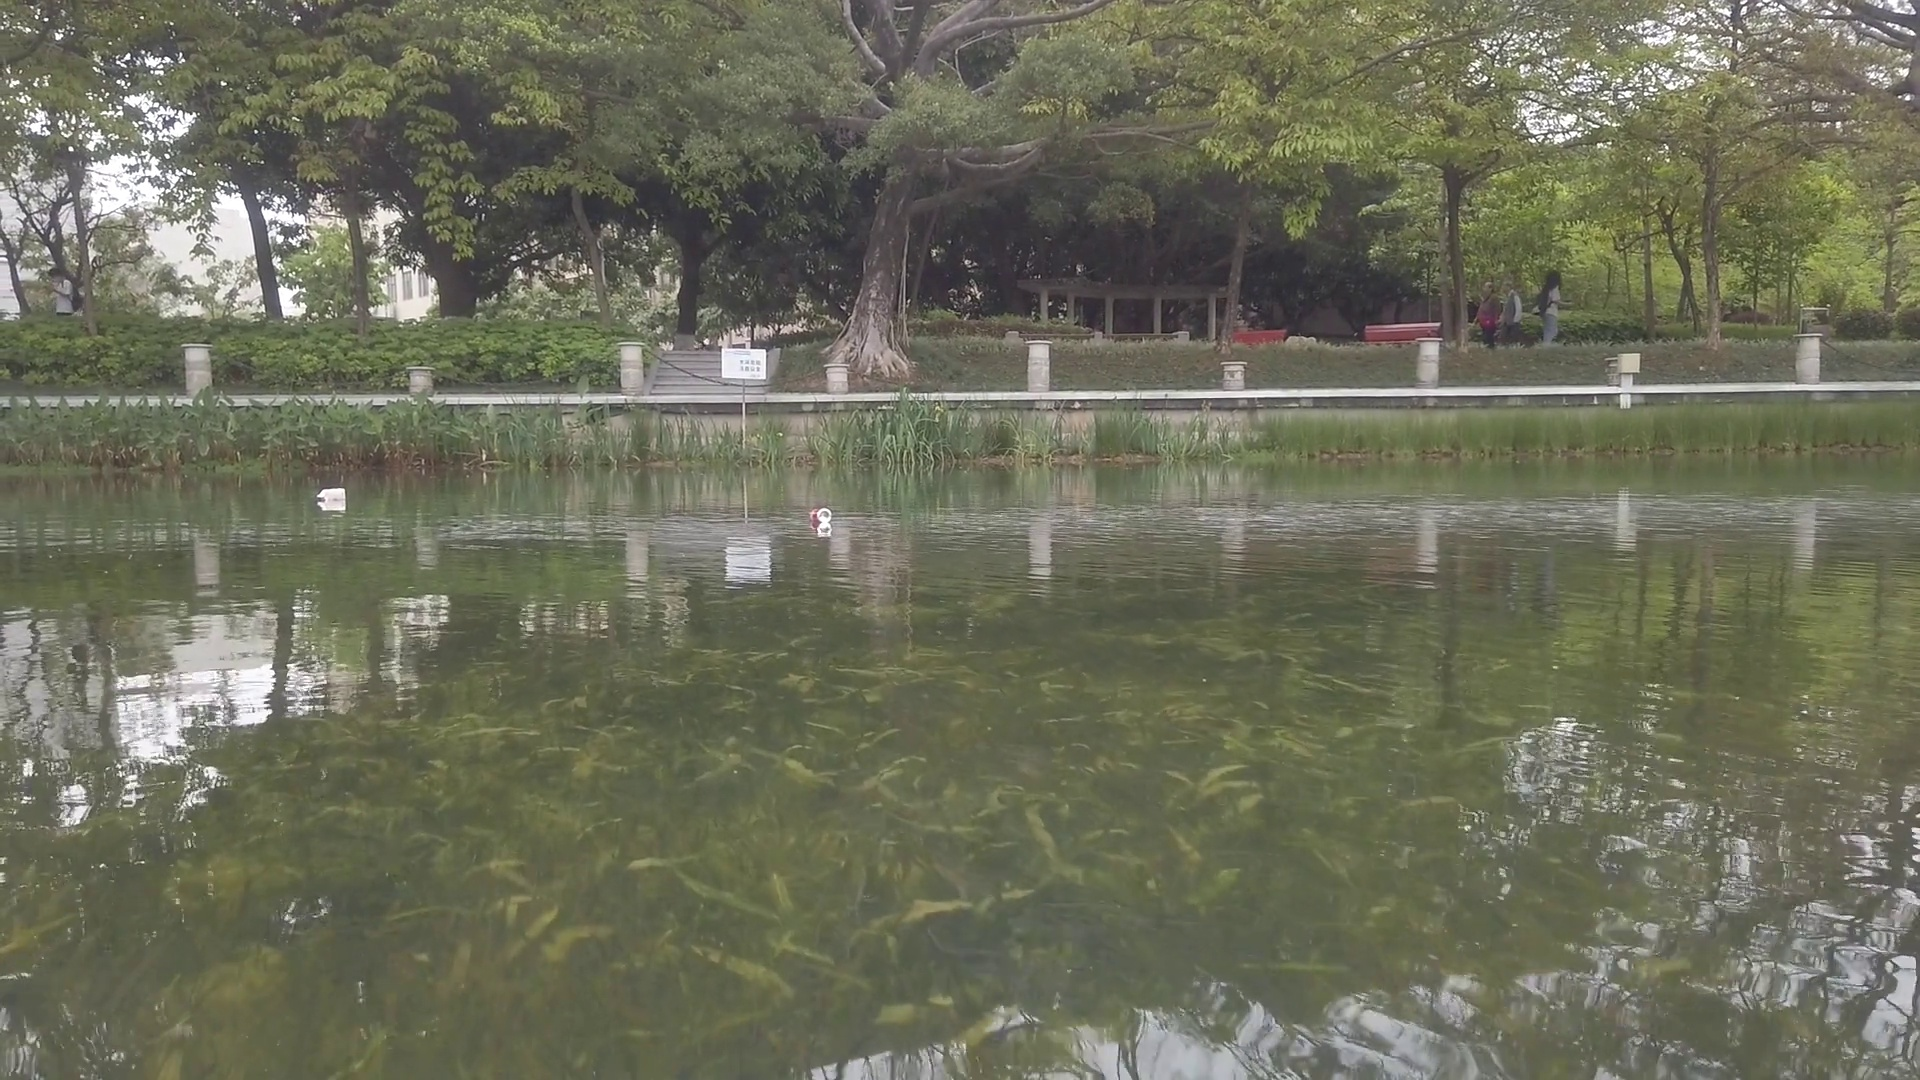bottle: (810, 505, 829, 524)
carton: (318, 488, 345, 501)
